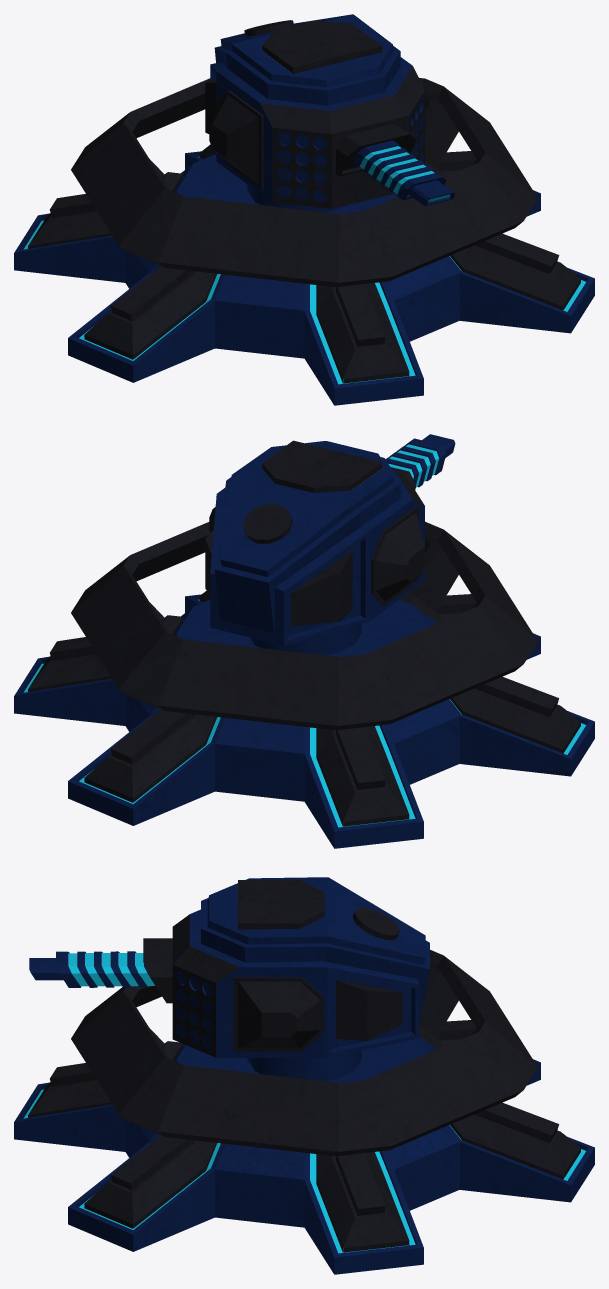
The model's file is Plasma_turret.obj.
The picture shows the model from 3 angles, top to bottom: view 1: azimuth 30°, elevation 25°; view 2: azimuth 150°, elevation 25°; view 3: azimuth 270°, elevation 25°; orthographic projection.
Parts seen in each view (by area): view 1: Plasma_turret; view 2: Plasma_turret; view 3: Plasma_turret.
Boxes of the visible parts, x1,y1,x2,y2 form: Plasma_turret: (14, 14, 594, 405); Plasma_turret: (14, 434, 594, 848); Plasma_turret: (14, 877, 594, 1274).
Size of the model in its own units: 6.07 by 2.88 by 6.07.
Materials: 1 (1 with a texture image).
